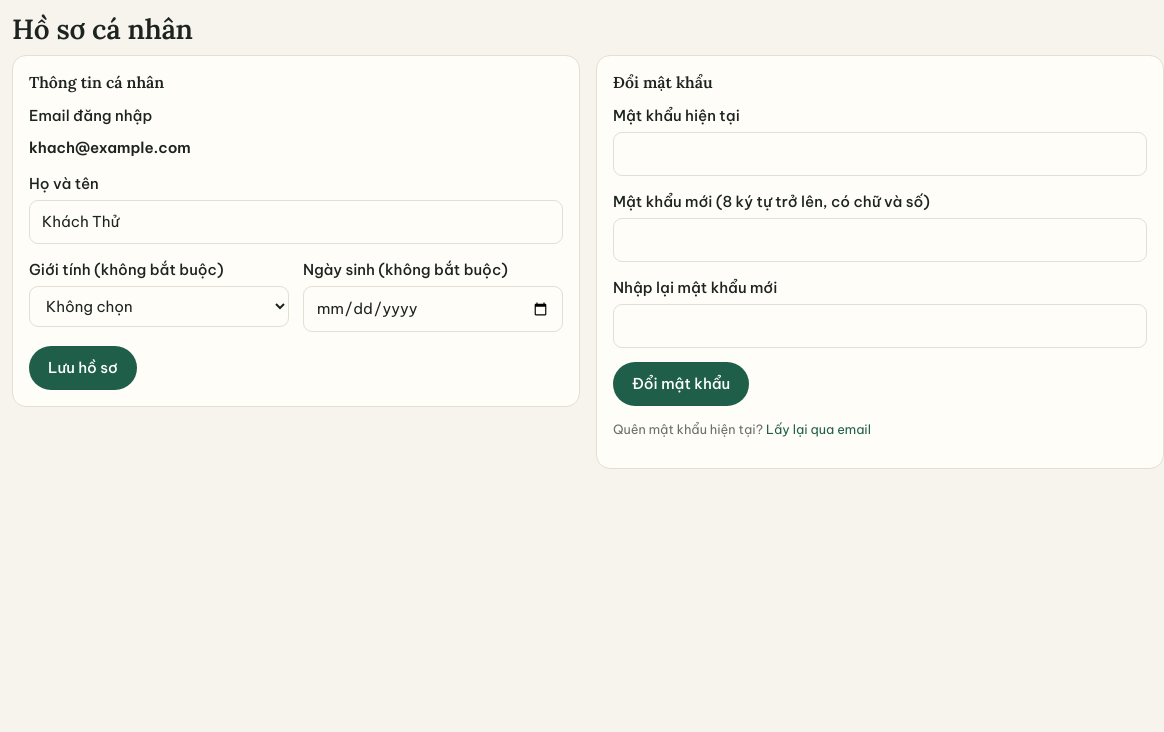
Test: ProfilePage › lỗi từng trường của hồ sơ hiện dưới ô tương ứng
Clear the field labelled "Họ và tên" at (296, 222), box [29,200,563,244]
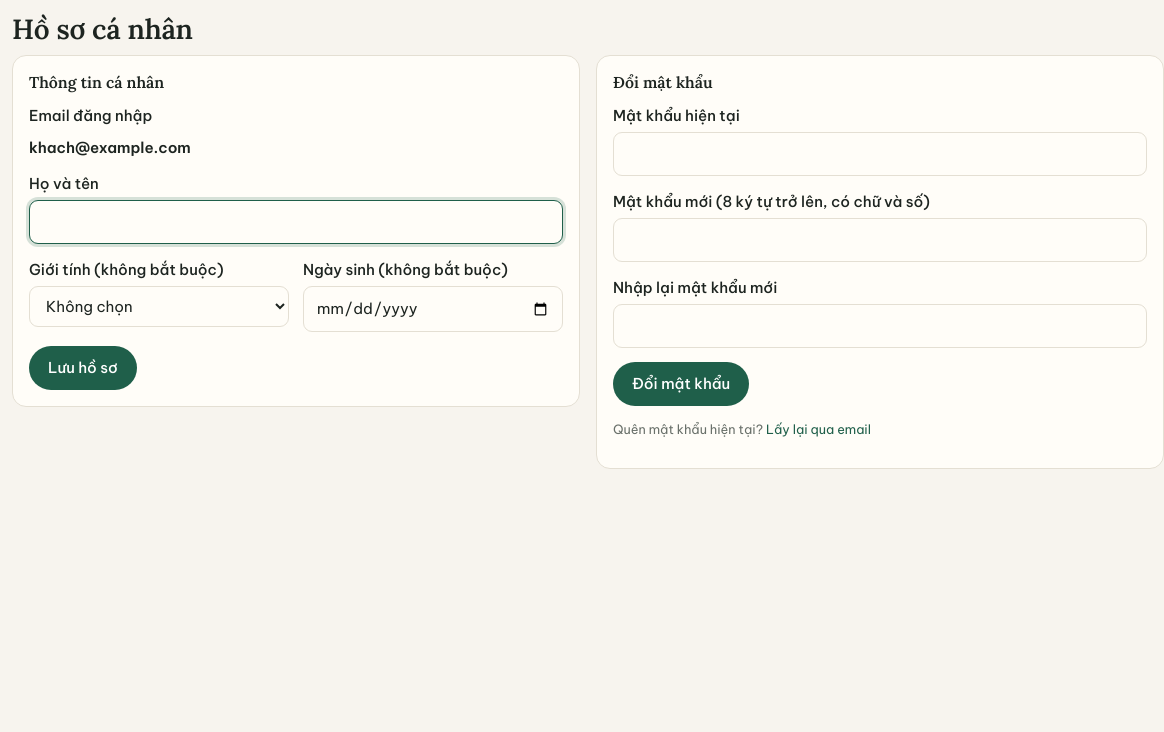
Click the button "Lưu hồ sơ".
click(83, 368)  # box [29,346,137,390]
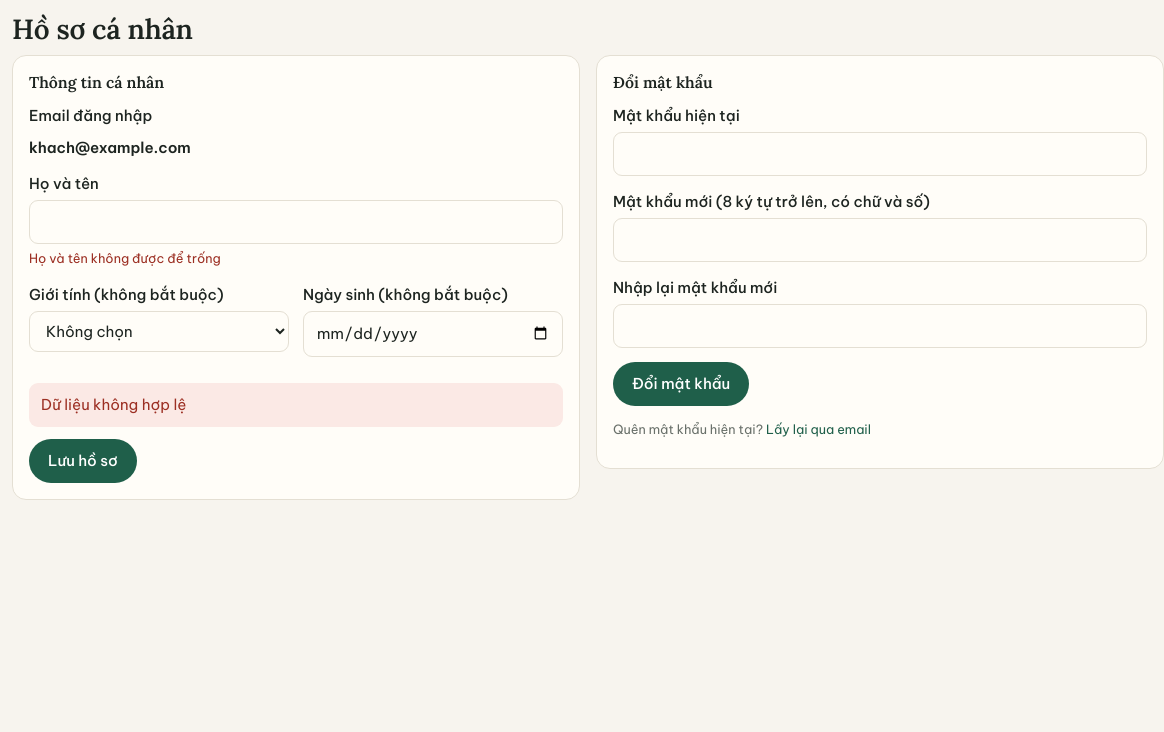
expect the text "Họ và tên không được để trống" is shown: met, box [29,250,221,266]
